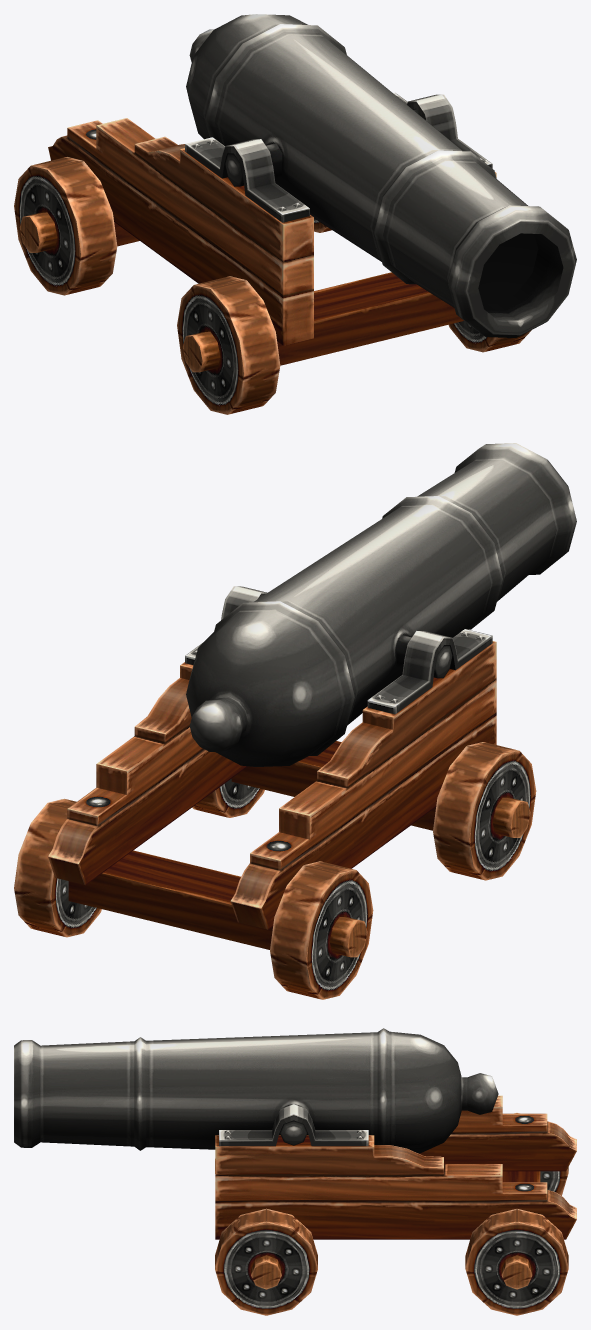
File: cannon.fbx
3 renders of one model, top to bottom at view 1: azimuth 30°, elevation 25°; view 2: azimuth 150°, elevation 25°; view 3: azimuth 270°, elevation 25°, orthographic. The views are drawn at different scales.
Visible parts, largest first — view 1: base_cannon, cannon; view 2: base_cannon, cannon; view 3: base_cannon, cannon.
Part boxes in pixels (bbox=[...]): base_cannon: bbox=[14, 92, 531, 414]; cannon: bbox=[186, 14, 576, 337]; base_cannon: bbox=[14, 586, 536, 999]; cannon: bbox=[186, 443, 576, 766]; base_cannon: bbox=[215, 1095, 576, 1315]; cannon: bbox=[14, 1028, 498, 1153].
Size of the model in its own units: 12.46 by 10.67 by 23.99.
